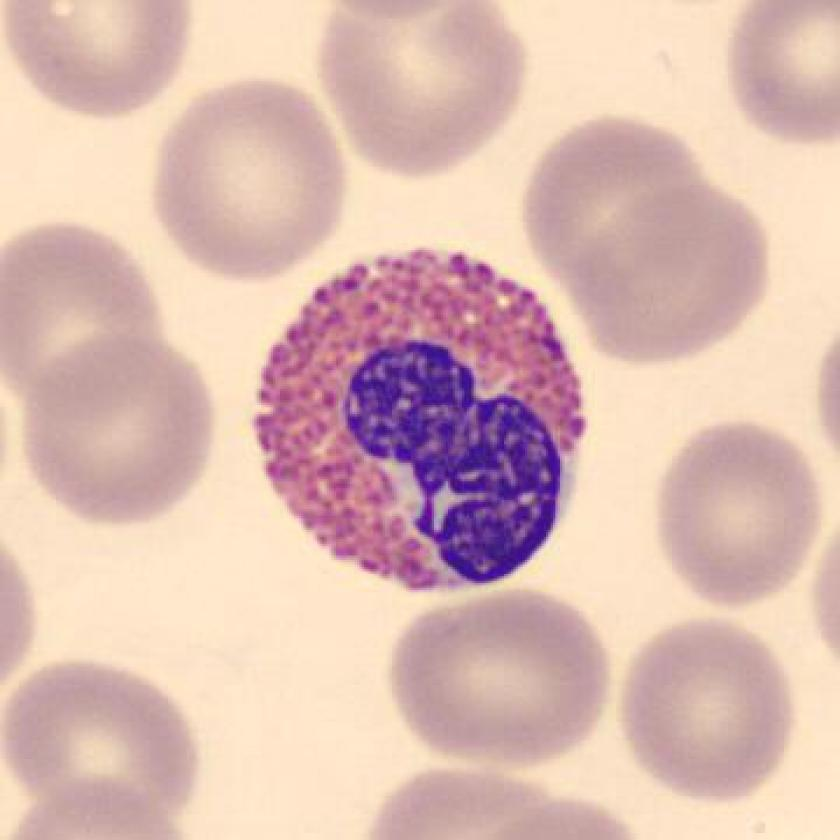eosinophil: (242, 242, 606, 610)
